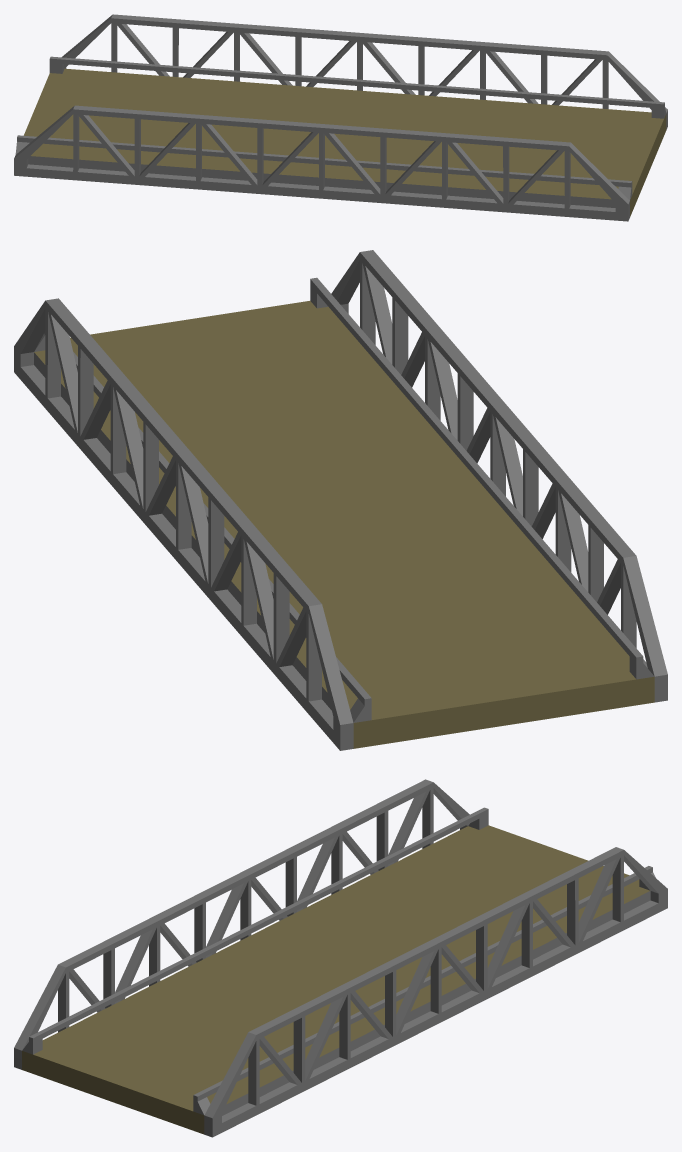
Rendered from DeathmapCanyon.FBX.
The picture shows the model from 3 angles, top to bottom: view 1: azimuth 30°, elevation 25°; view 2: azimuth 150°, elevation 25°; view 3: azimuth 270°, elevation 25°; orthographic projection. The views are drawn at different scales.
Parts seen in each view (by area): view 1: Box001; view 2: Box001; view 3: Box001.
Boxes of the visible parts, bbox=[...] form: Box001: bbox=[14, 14, 667, 221]; Box001: bbox=[14, 250, 667, 750]; Box001: bbox=[14, 779, 667, 1137].
Bounding box in the file's own units: 3941 × 493 × 3634.
